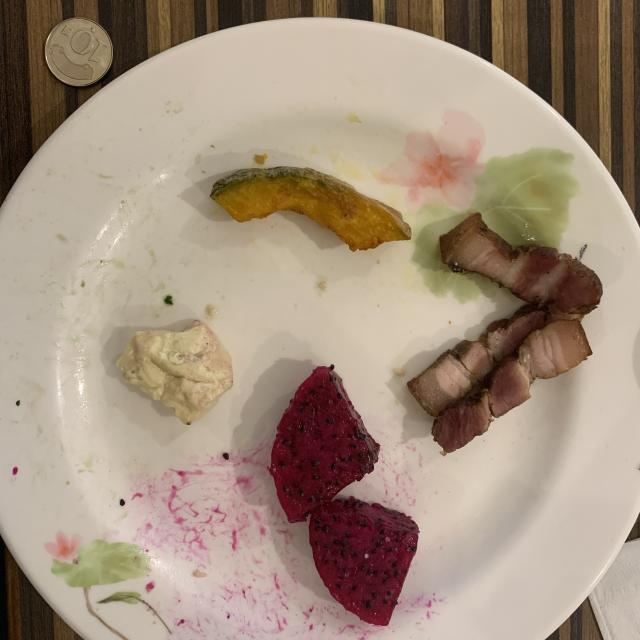coin: (45, 18, 112, 86)
grilled pork: (409, 212, 602, 452)
pumpkin: (210, 166, 411, 251)
